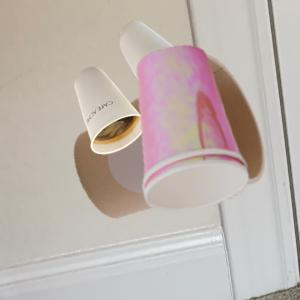cup: (136, 45, 250, 214), (72, 66, 142, 154)
